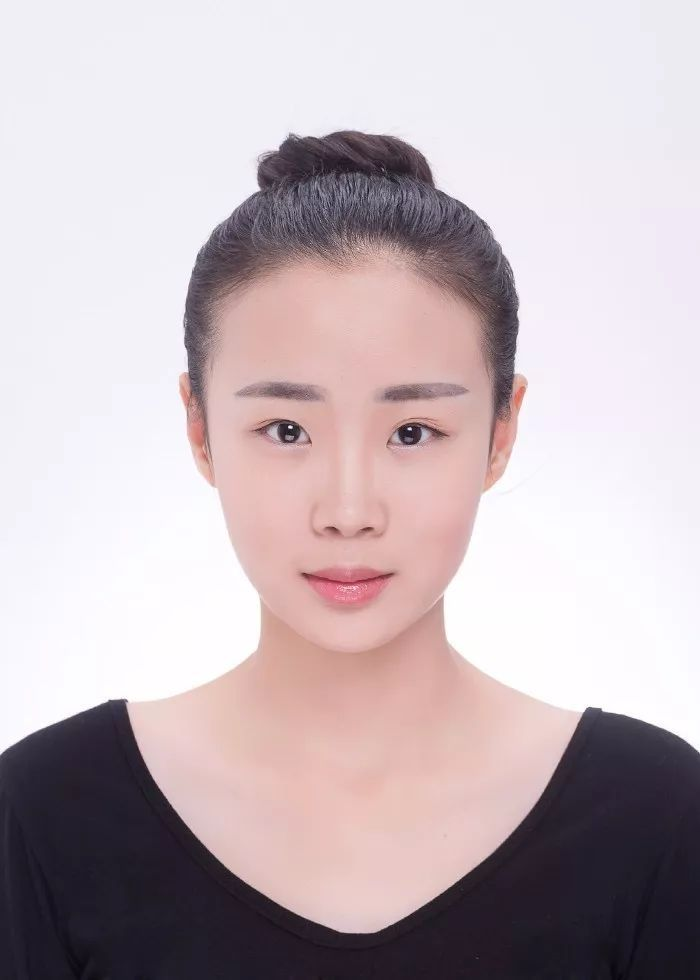unmask: (204, 275, 492, 639)
